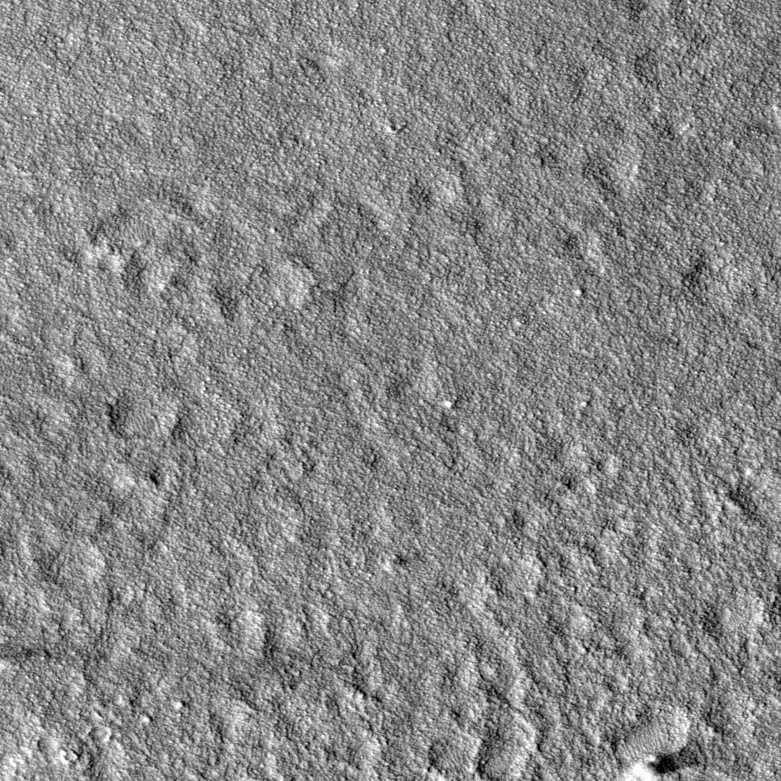dust_devil: (626, 742, 709, 781)
